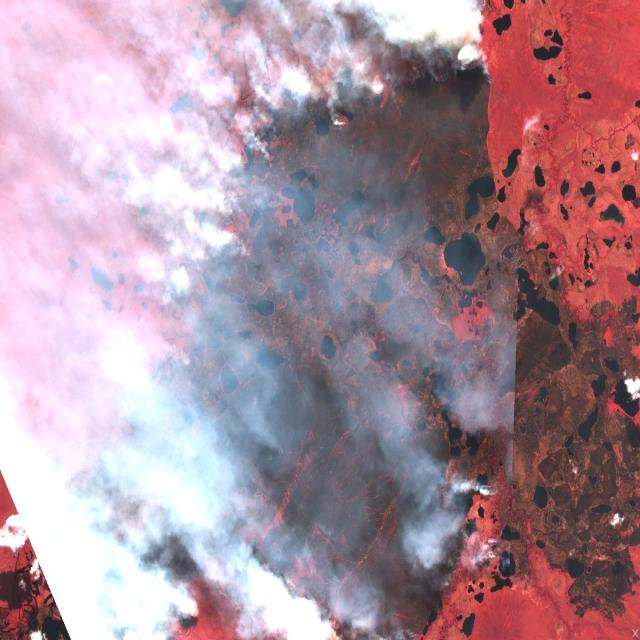fire: (152, 0, 494, 317), (184, 536, 345, 640), (441, 464, 509, 596)
